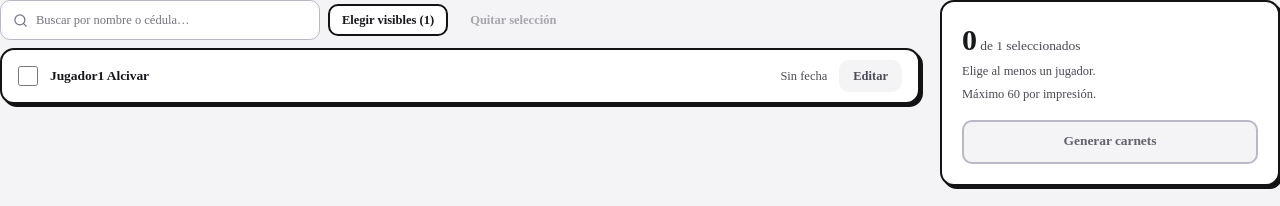
CarnetPicker — «Miembro desde» on the row (#1749, S1) › clicking the name still toggles the checkbox
The width and height of the screenshot is (1280, 206).
Click the text "Jugador1 Alcivar": (100,75) [50,68,149,83]
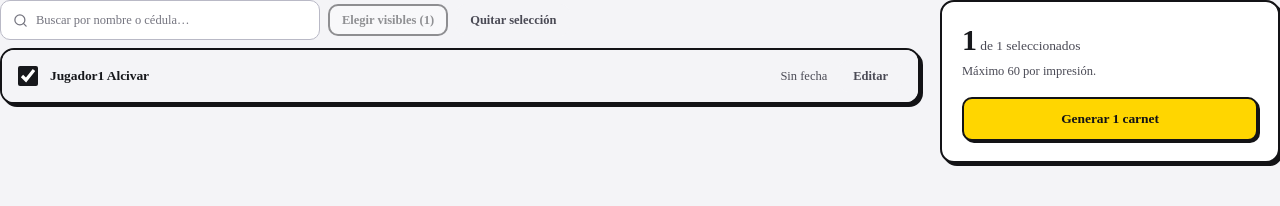
Expected: the checkbox named "Elegir a Jugador1 Alcivar" is checked, [18,66,38,86]
